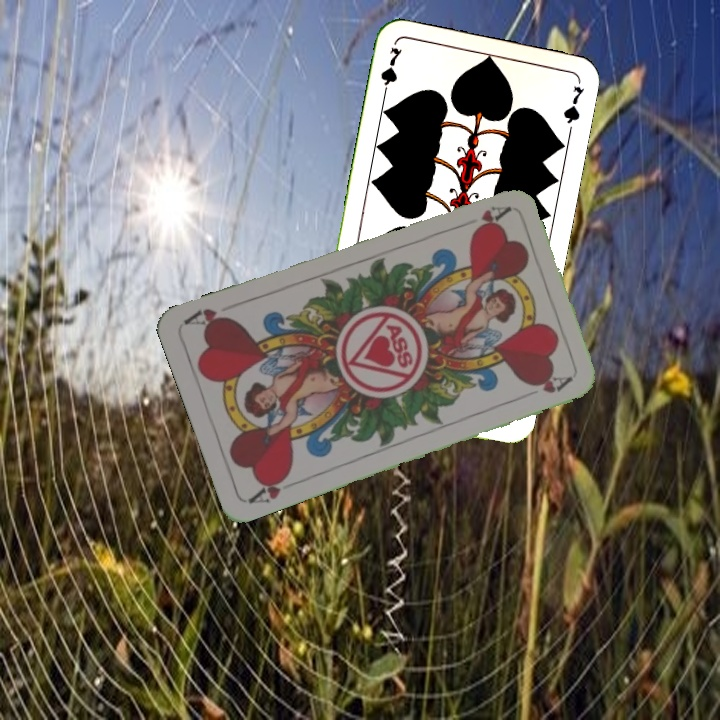G7: (376, 43, 405, 101)
HA: (244, 468, 295, 507), (453, 202, 511, 232)
